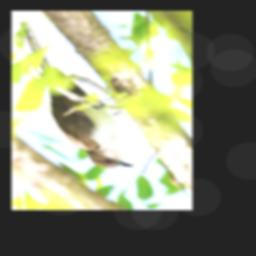Cuckoo: (18, 20, 134, 170)
